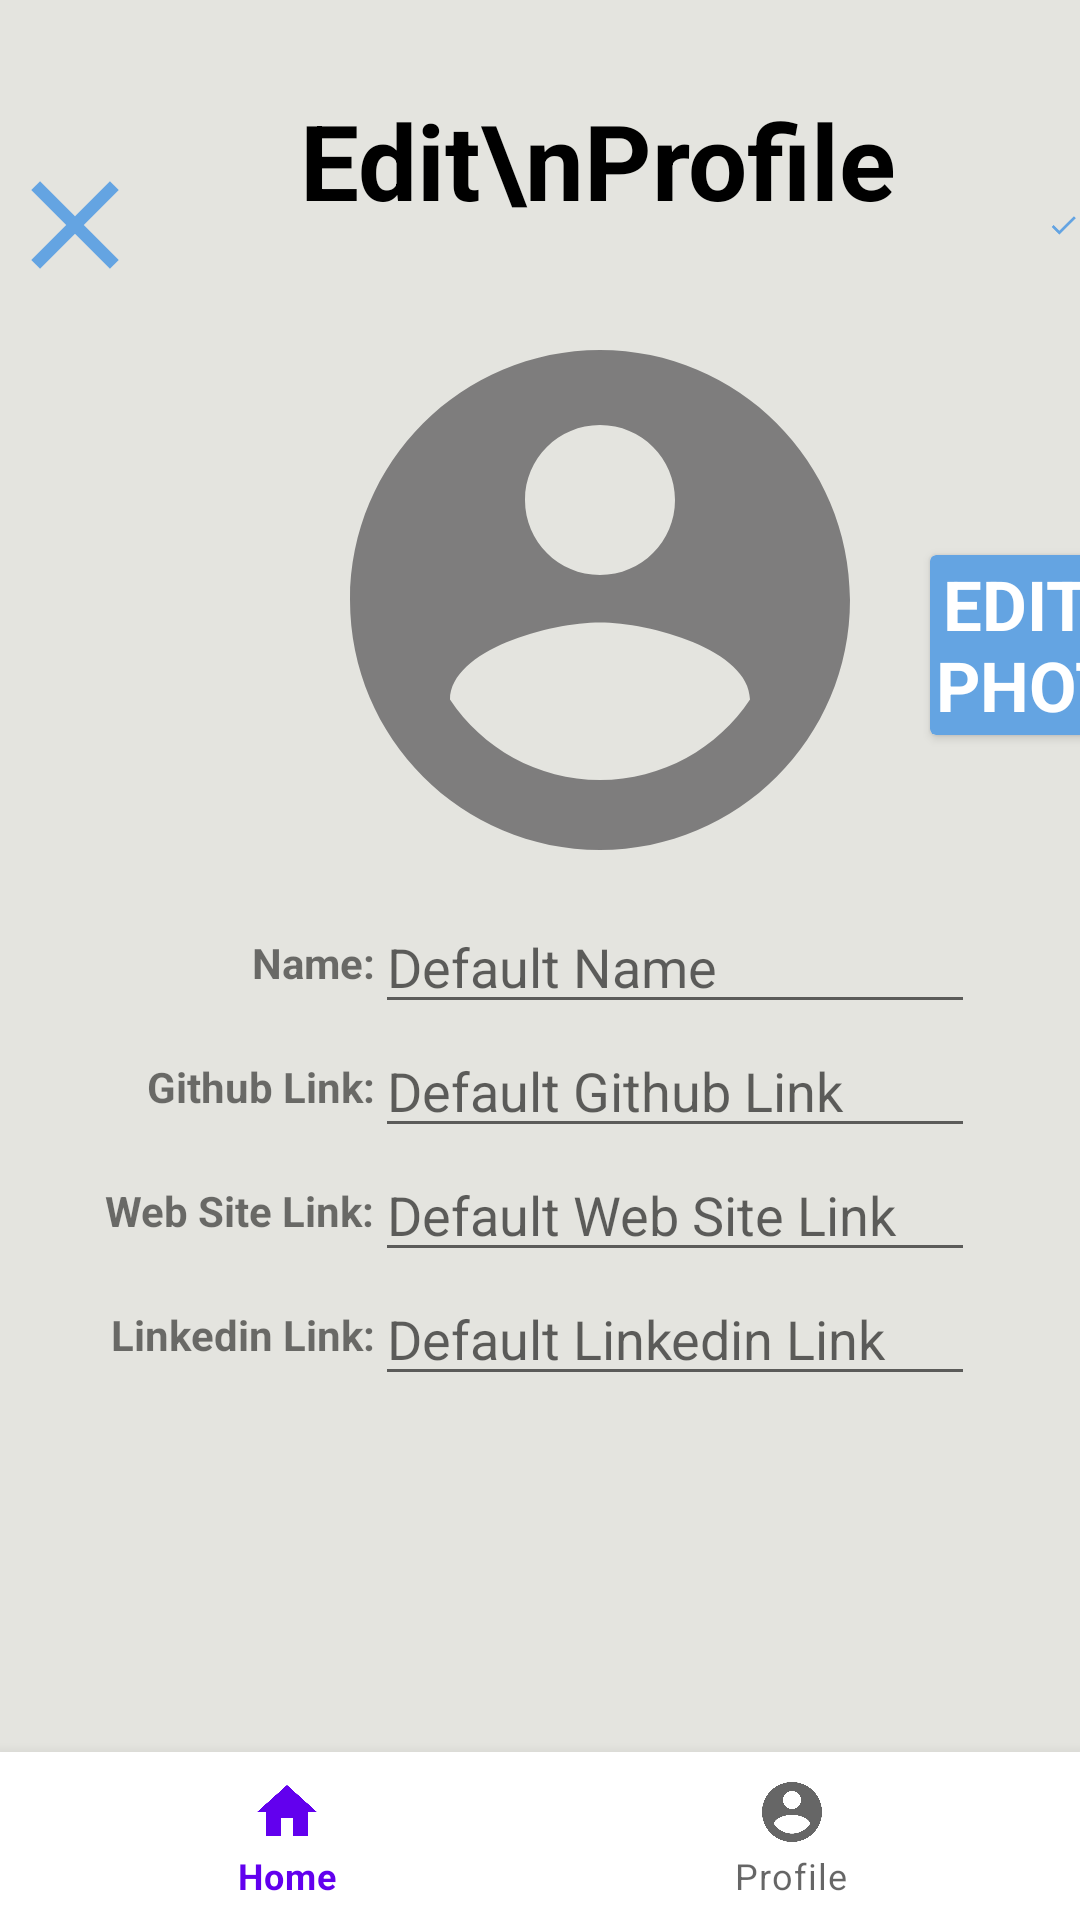

Where icons sit on this 1080x1920 app screen, as bbox=(x1, y1, x2, y2):
check: bbox=(1052, 216, 1076, 235)
close: bbox=(31, 181, 119, 269)
